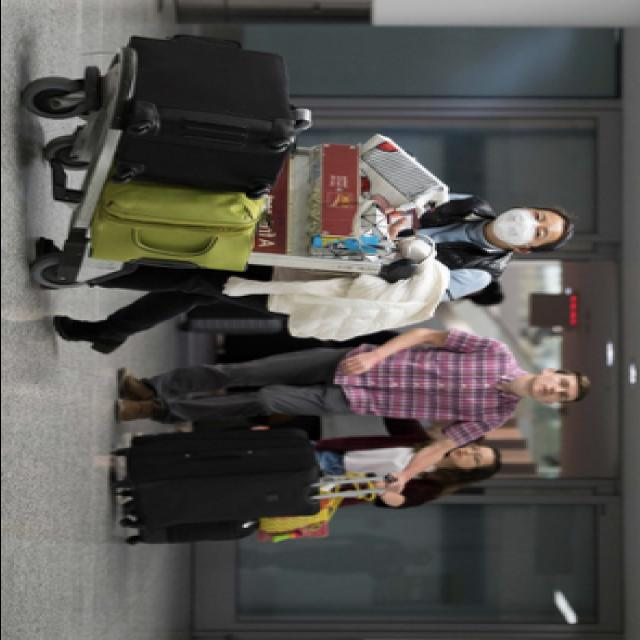mask: (492, 208, 556, 248)
no_mask: (527, 372, 577, 403), (449, 443, 493, 472)
